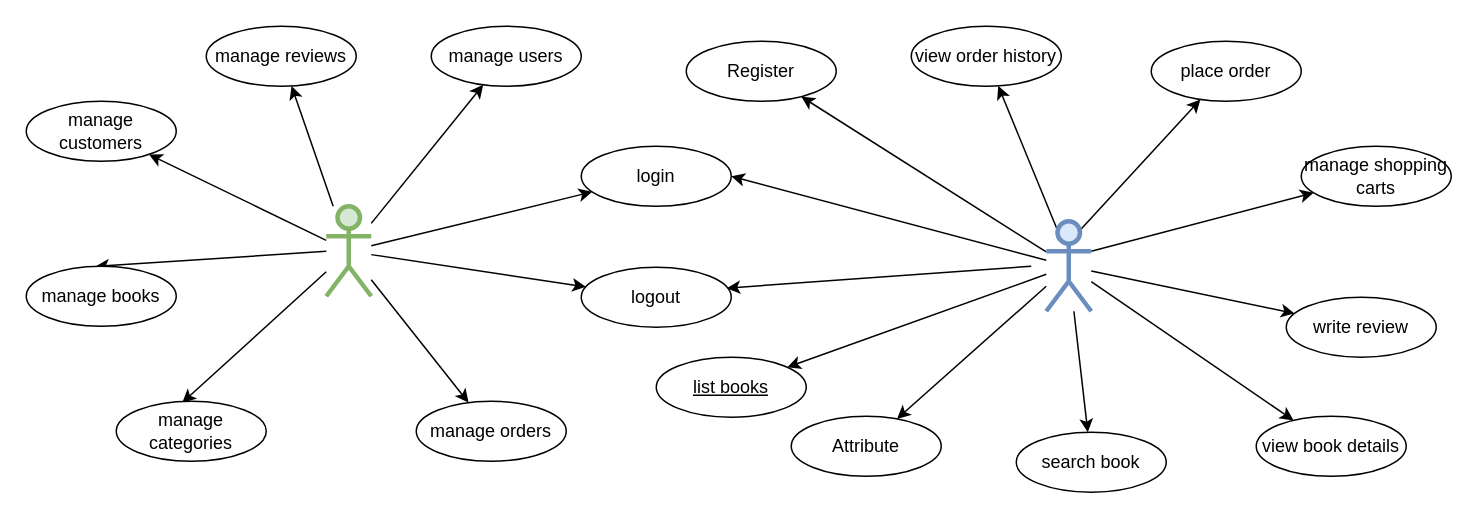
The diagram is 1478 pixels wide and 519 high, and some of its shapes have lost their labels. The shapes that lost their labels are listed below. From the top down, each one's centre as x and y in pixels, then its label:
the point at 348,250: Admin
the point at 1068,265: Customer
